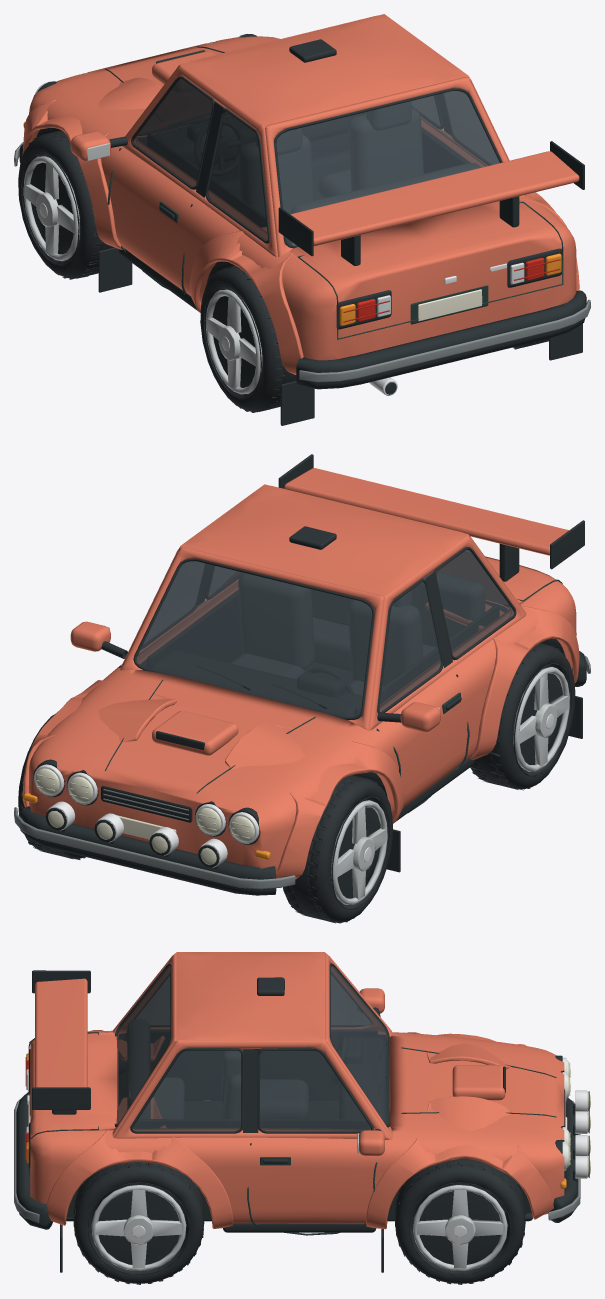
Rendered from rally_lod1.fbx.
The picture shows the model from 3 angles, top to bottom: view 1: azimuth 30°, elevation 25°; view 2: azimuth 150°, elevation 25°; view 3: azimuth 270°, elevation 25°; orthographic projection. The views are drawn at different scales.
Parts seen in each view (by area): view 1: Body, Wheel_RL_Mesh, Wheel_FL_Mesh; view 2: Body, Wheel_FL_Mesh, Wheel_RL_Mesh, Wheel_FR_Mesh; view 3: Body, Wheel_FR_Mesh, Wheel_RR_Mesh.
Part boxes in pixels (<box>): Body: <box>14,14,590,425</box>; Wheel_RL_Mesh: <box>200,265,296,412</box>; Wheel_FL_Mesh: <box>18,130,113,279</box>; Body: <box>14,454,590,895</box>; Wheel_FL_Mesh: <box>283,775,392,923</box>; Wheel_RL_Mesh: <box>470,643,575,790</box>; Wheel_FR_Mesh: <box>18,712,85,859</box>; Body: <box>14,952,590,1272</box>; Wheel_FR_Mesh: <box>395,1158,525,1284</box>; Wheel_RR_Mesh: <box>73,1162,204,1284</box>.
Bounding box in the file's own units: 236 × 168 × 372.
